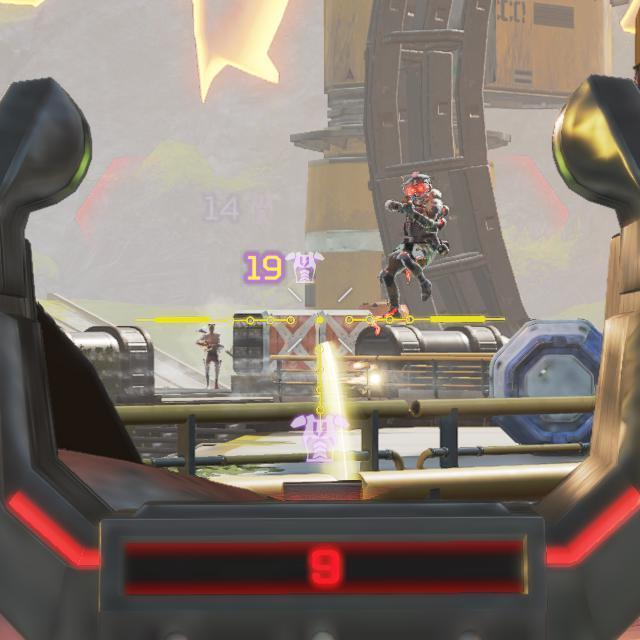avatar: (378, 170, 451, 315), (197, 324, 225, 389)
